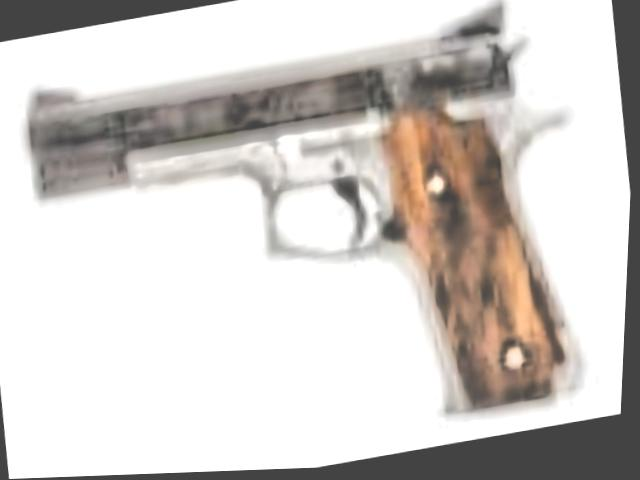pistol: (0, 0, 616, 480)
